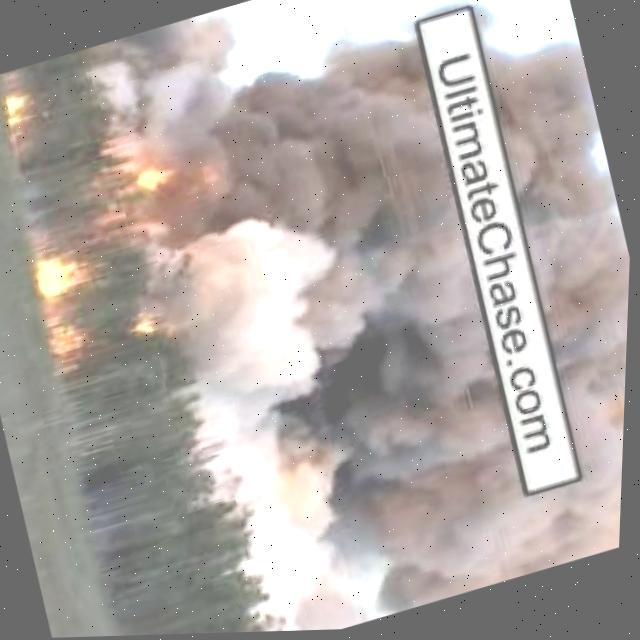Fire: (45, 276, 184, 378), (112, 159, 193, 209), (33, 250, 104, 298), (0, 91, 42, 139)
Smoke: (116, 0, 564, 637), (456, 0, 640, 559)
